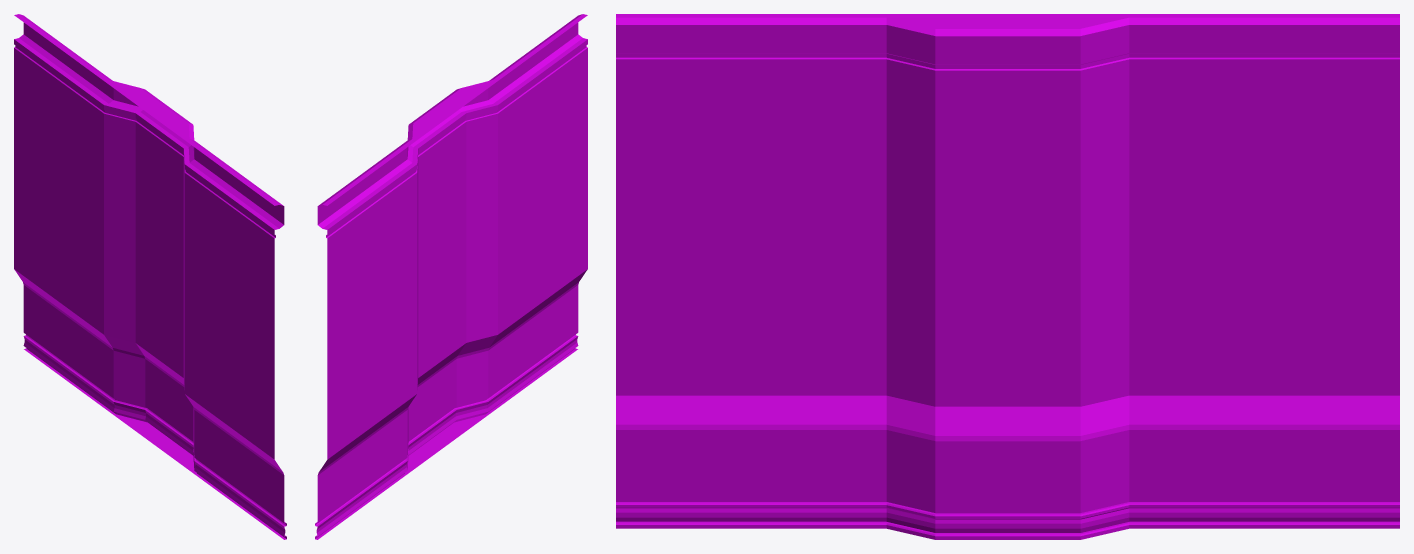
The model's file is TempA_ShortWall_02_Low.fbx.
3 views of the same model, side by side, from view 1: azimuth 30°, elevation 25°; view 2: azimuth 150°, elevation 25°; view 3: azimuth 270°, elevation 25° (orthographic). The views are drawn at different scales.
Visible parts, largest first — view 1: TempA_ShortWall_02_Low; view 2: TempA_ShortWall_02_Low; view 3: TempA_ShortWall_02_Low.
Part boxes in pixels (left/top/right/bottom): TempA_ShortWall_02_Low: left=14, top=14, right=286, bottom=539; TempA_ShortWall_02_Low: left=315, top=14, right=587, bottom=539; TempA_ShortWall_02_Low: left=616, top=14, right=1399, bottom=539.
Size of the model in its own units: 0.3674 by 4.27 by 6.
